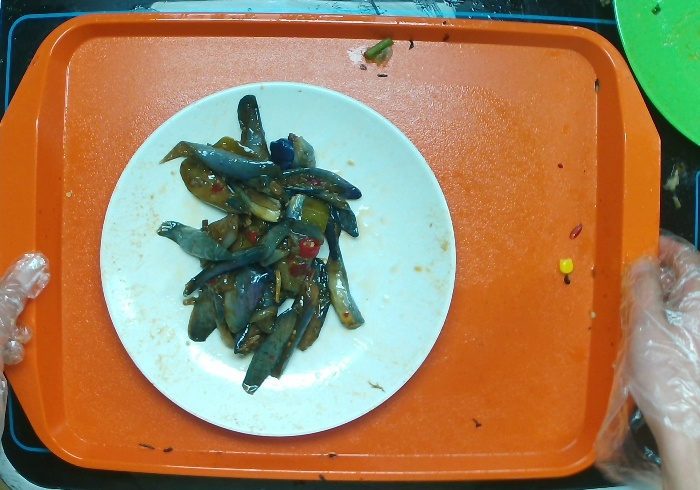HZYJPL-Bai_Se_Yuan_Pan: (80, 68, 469, 445)
